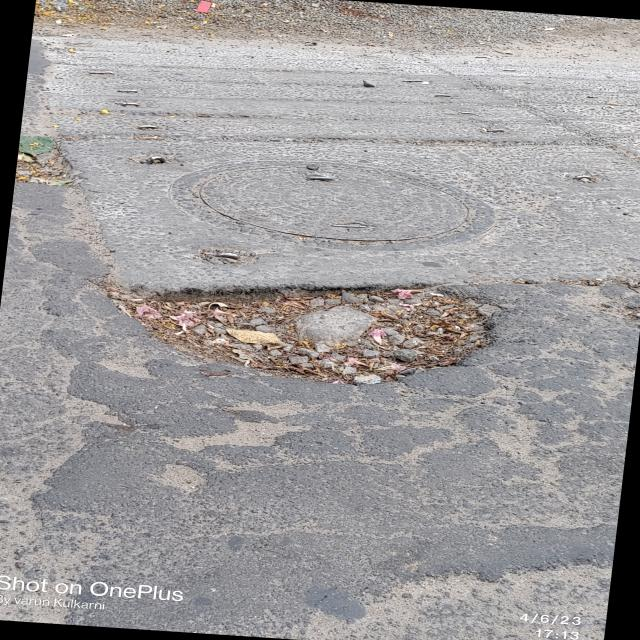potholes: (104, 287, 500, 385)
